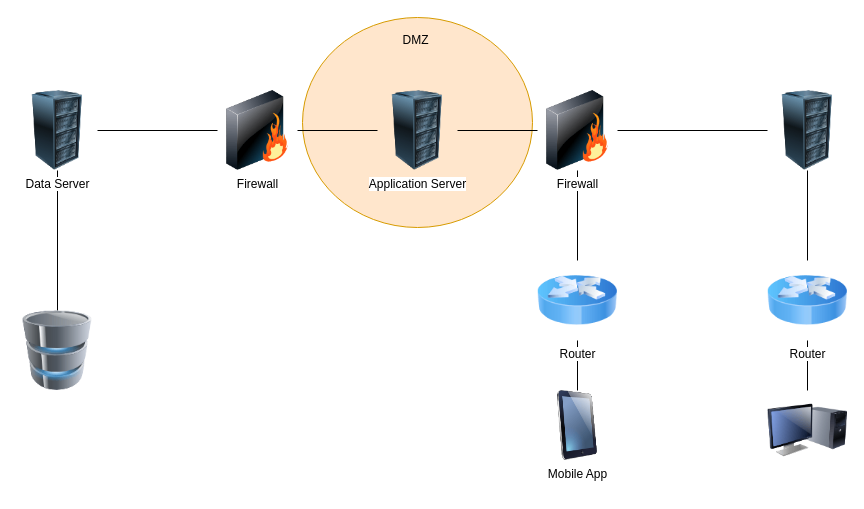
This 864x509 diagram has some shape labels left out. Here are the shapes that lost their labels. From the top down, the centre of each, then its label:
At (x=807, y=130): "Web Server".
At (x=57, y=350): "Database".
At (x=807, y=430): "Web App".
